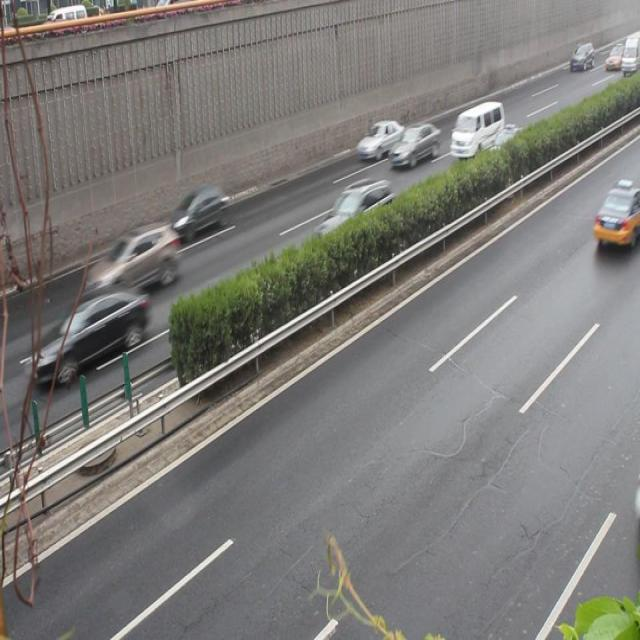car: (36, 286, 147, 385), (84, 220, 178, 297), (314, 176, 392, 248), (163, 187, 227, 242), (592, 180, 640, 253), (390, 122, 439, 171), (356, 120, 403, 162), (484, 127, 527, 170)
truck: (449, 99, 502, 159)
